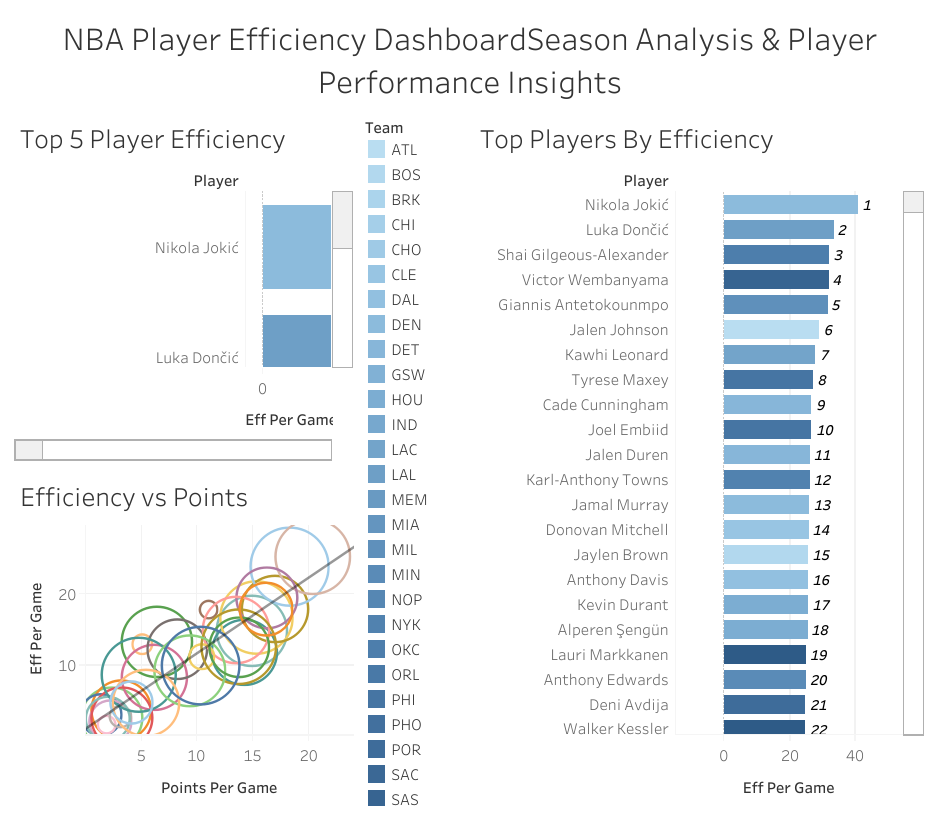

The dashboard page shown, as its layout file describes it:
{"tool":"tableau","page":{"name":"NBA Player Efficiency DashboardSeason Analysis & Player Performance Insights","canvas":[1000,1000],"units":"permille","ordinal":0},"visuals":[{"type":"title","box":[4.7,8.8,990.6,85.6]},{"type":"worksheet","title":"Top 5 Player Efficiency","mark":"Automatic","rows":["player"],"cols":["eff_per_game"],"box":[4.7,94.4,443,457.7]},{"type":"legend","title":"Top Players By Efficiency","param":"[federated.1ng50tj12x09wt161c0k51lsnf8m].[none:team:nk]","box":[447.7,94.4,52.3,724.5]},{"type":"worksheet","title":"Top Players By Efficiency","mark":"Automatic","rows":["player"],"cols":["eff_per_game"],"box":[500,94.4,495.3,896.8]},{"type":"worksheet","title":"Efficiency vs Points","mark":"Automatic","rows":["eff_per_game"],"cols":["points_per_game"],"box":[4.7,552.1,443,439.1]}]}

Visuals, with their boxes on the dashboard's canvas, which has no fixed pixel size, in thousandths of its width and height (x1, y1, x2, y2). These are canvas units, not pixel positions in the 939x820 screenshot, which may show the page scaled, cropped or inside an application window:
title: (left=5, top=9, right=995, bottom=94)
"Top 5 Player Efficiency" worksheet: (left=5, top=94, right=448, bottom=552)
"Top Players By Efficiency" legend: (left=448, top=94, right=500, bottom=819)
"Top Players By Efficiency" worksheet: (left=500, top=94, right=995, bottom=991)
"Efficiency vs Points" worksheet: (left=5, top=552, right=448, bottom=991)
